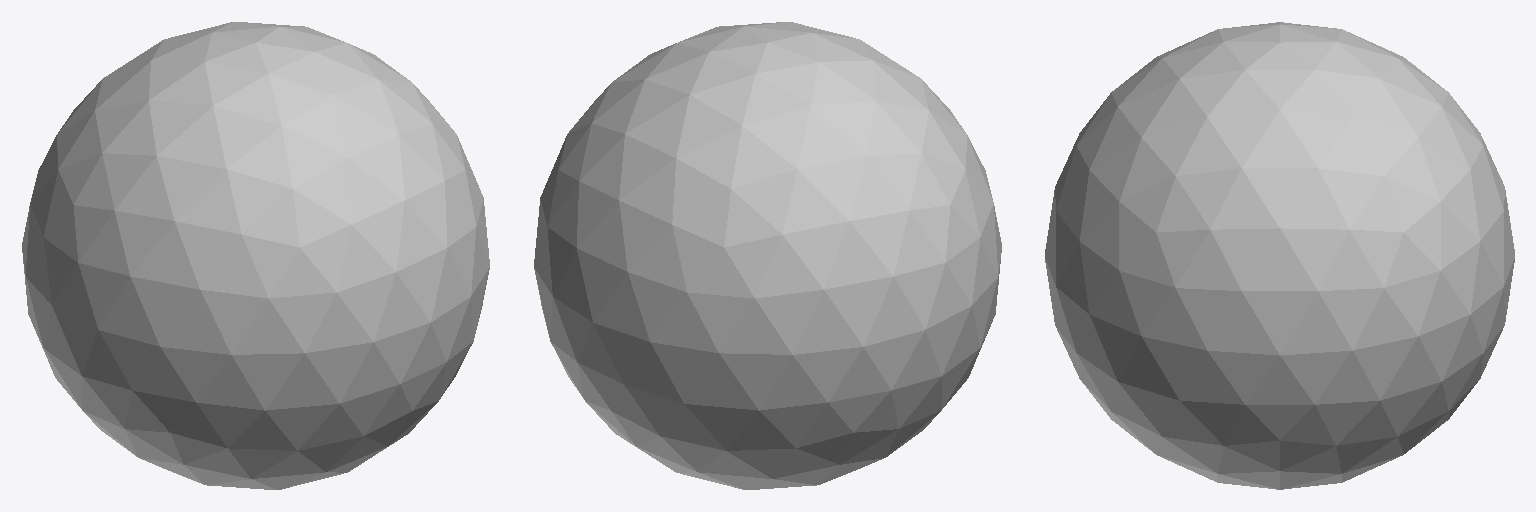
File: Ball.obj
The picture shows the model from 3 angles: view 1: azimuth 30°, elevation 25°; view 2: azimuth 150°, elevation 25°; view 3: azimuth 270°, elevation 25°; orthographic projection.
Visible parts, largest first — view 1: Ball; view 2: Ball; view 3: Ball.
Part boxes in pixels (x1,y1,x2,y2): Ball: (22,22,489,489); Ball: (534,22,1001,489); Ball: (1045,22,1514,489).
Size of the model in its own units: 0.5 by 0.5 by 0.5.